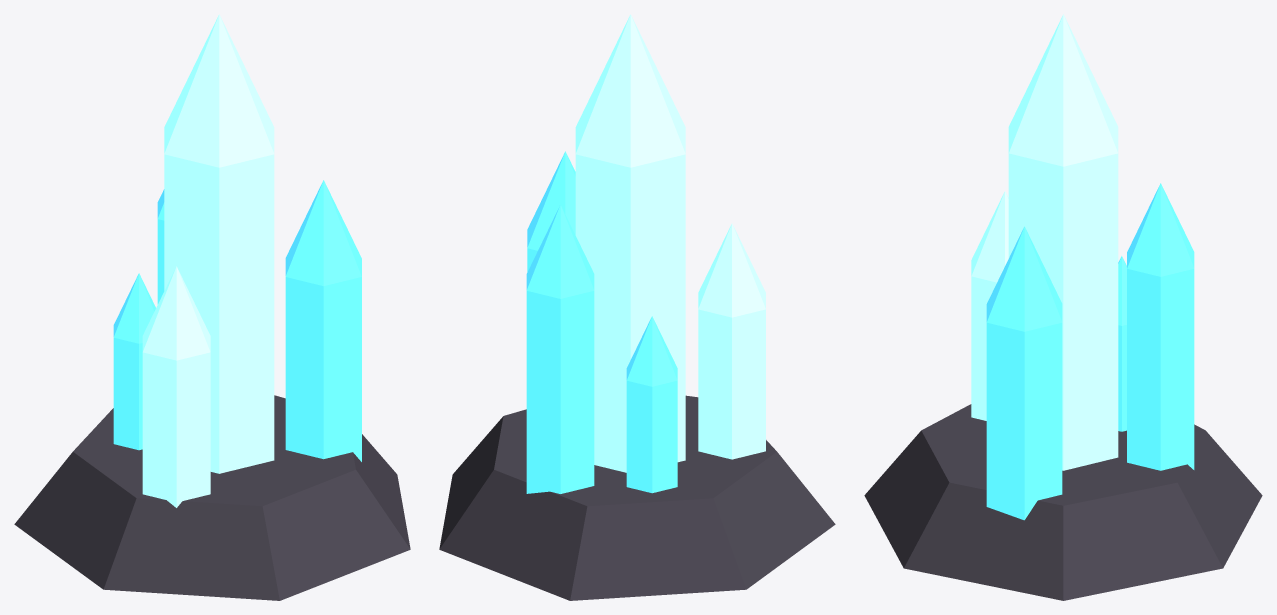
File: cristal.glb
The picture shows the model from 3 angles, left to right: view 1: azimuth 30°, elevation 25°; view 2: azimuth 150°, elevation 25°; view 3: azimuth 270°, elevation 25°; orthographic projection.
Visible parts, largest first — view 1: cristal; view 2: cristal; view 3: cristal.
Part boxes in pixels (x1,y1,x2,y2): cristal: (14,14,410,600); cristal: (439,14,835,600); cristal: (864,14,1262,600).
Size of the model in its own units: 0.7984 by 1.14 by 0.8189.
